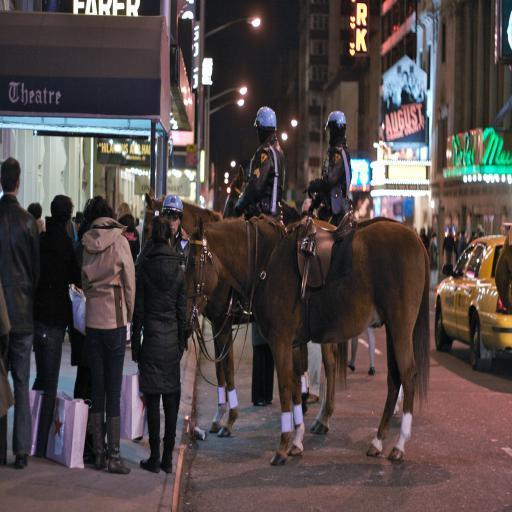horse: (186, 210, 434, 463), (139, 182, 349, 438), (222, 164, 406, 418)
